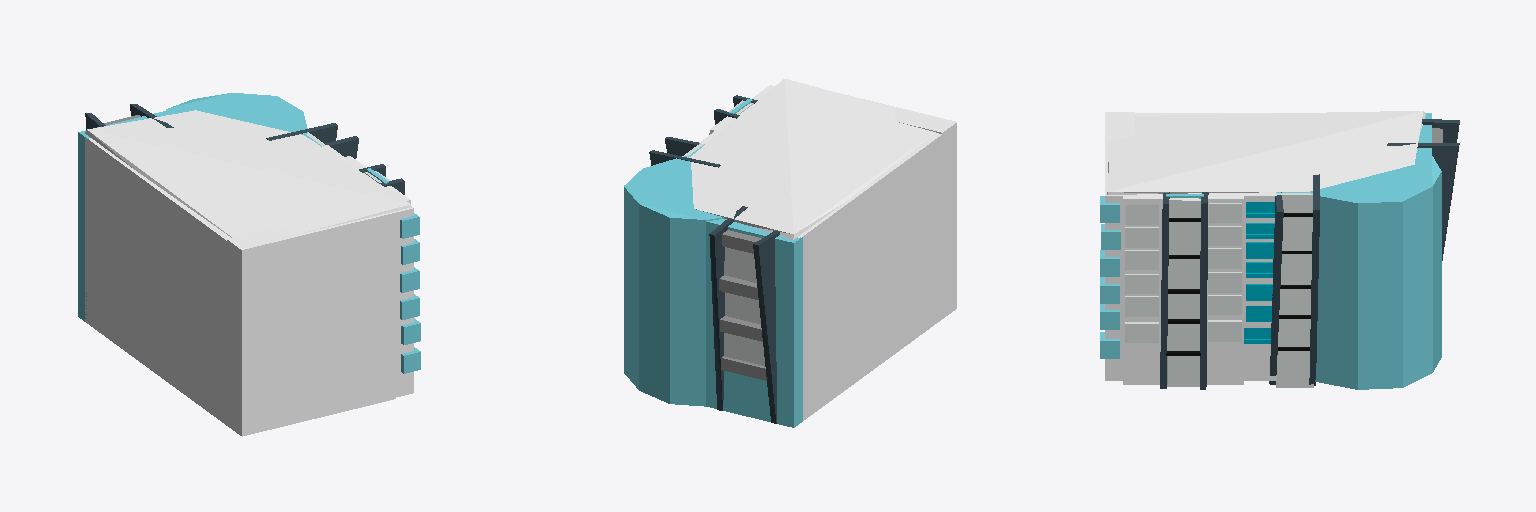
File: building_short.obj
The picture shows the model from 3 angles: view 1: azimuth 30°, elevation 25°; view 2: azimuth 150°, elevation 25°; view 3: azimuth 270°, elevation 25°; orthographic projection.
Visible parts, largest first — view 1: building_short_mesh[number redacted]; view 2: building_short_mesh[number redacted]; view 3: building_short_mesh[number redacted].
Part boxes in pixels (x1,y1,x2,y2): building_short_mesh[number redacted]: (78, 93, 420, 436); building_short_mesh[number redacted]: (624, 79, 956, 427); building_short_mesh[number redacted]: (1100, 111, 1459, 389).
Bounding box in the file's own units: 1.42 × 1.3 × 2.17.